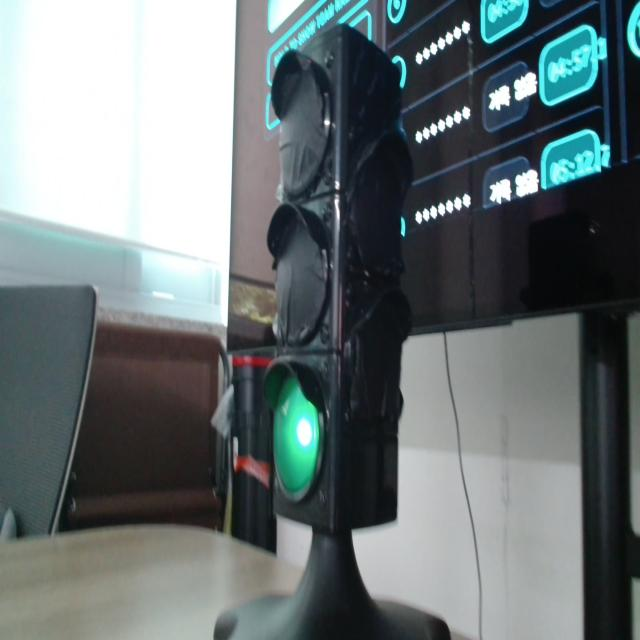green_light: (274, 377, 320, 495)
